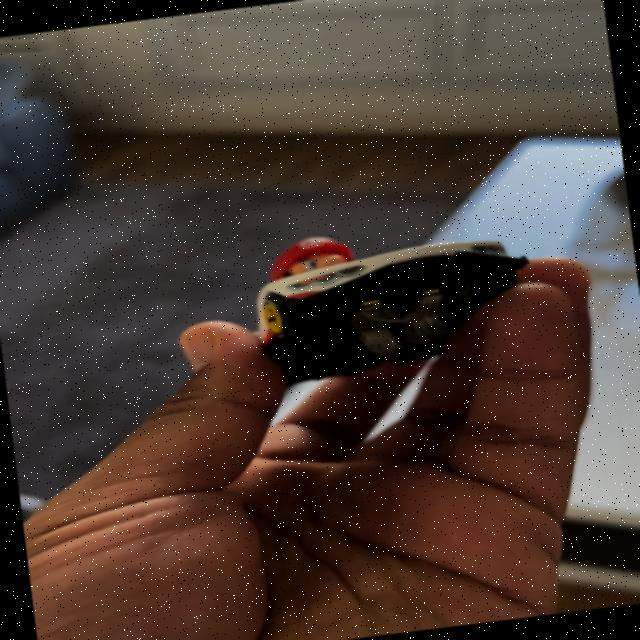mario: (213, 205, 562, 421)
